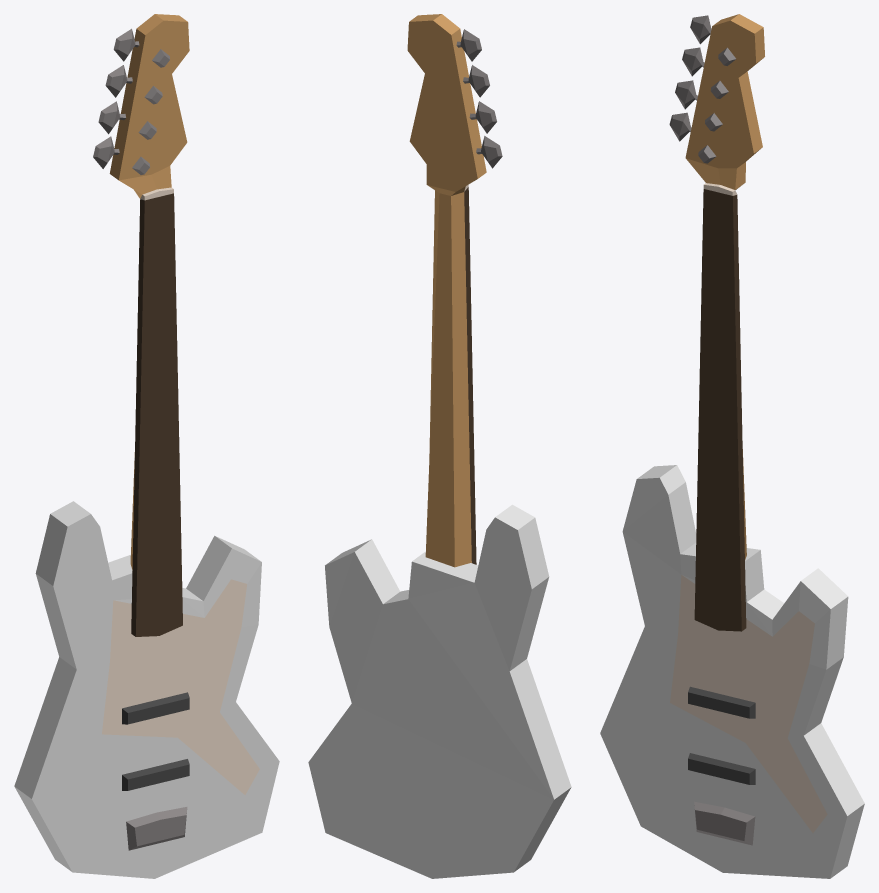
The model's file is bass-guitar.fbx.
The picture shows the model from 3 angles, left to right: view 1: azimuth 30°, elevation 25°; view 2: azimuth 150°, elevation 25°; view 3: azimuth 330°, elevation 25°; orthographic projection.
Visible parts, largest first — view 1: bass-guitar; view 2: bass-guitar; view 3: bass-guitar.
Part boxes in pixels (<box>): bass-guitar: <box>14,14,279,878</box>; bass-guitar: <box>308,14,571,878</box>; bass-guitar: <box>600,14,864,878</box>.
Bounding box in the file's own units: 0.3608 × 1.19 × 0.0572.
